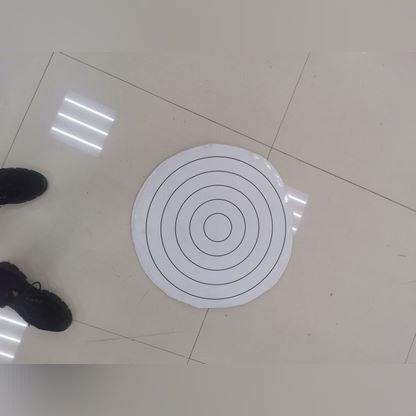circle: (133, 149, 300, 297)
